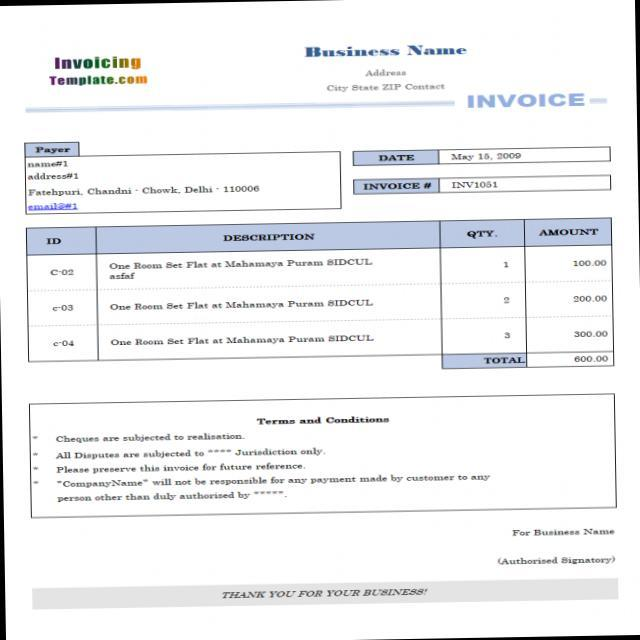customer_address: (26, 170, 82, 182)
customer_name: (24, 159, 79, 171)
invoice_date: (449, 150, 525, 164)
invoice_number: (448, 179, 501, 190)
invoice_total: (570, 351, 613, 367)
item_description: (101, 255, 393, 355)
item_quantity: (490, 252, 518, 345)
item_total_price: (561, 249, 610, 344)
supplier_address: (362, 67, 411, 79)
supplier_name: (302, 40, 475, 63)
